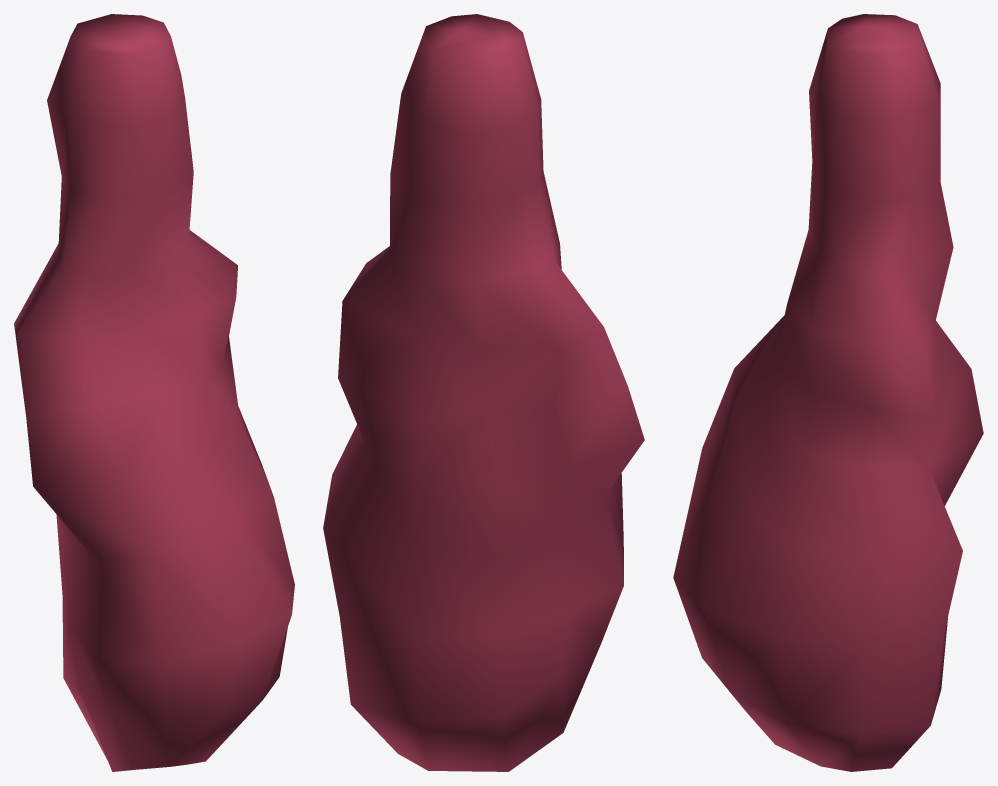
File: pillarmed.fbx
3 views of the same model, side by side, from view 1: azimuth 30°, elevation 25°; view 2: azimuth 150°, elevation 25°; view 3: azimuth 270°, elevation 25° (orthographic). The views are drawn at different scales.
Visible parts, largest first — view 1: pillarmed_low; view 2: pillarmed_low; view 3: pillarmed_low.
Boxes of the visible parts, x1,y1,x2,y2 form: pillarmed_low: (14,14,294,771); pillarmed_low: (323,14,644,771); pillarmed_low: (673,14,983,771).
Bounding box in the file's own units: 17.82 × 46.08 × 18.1.
